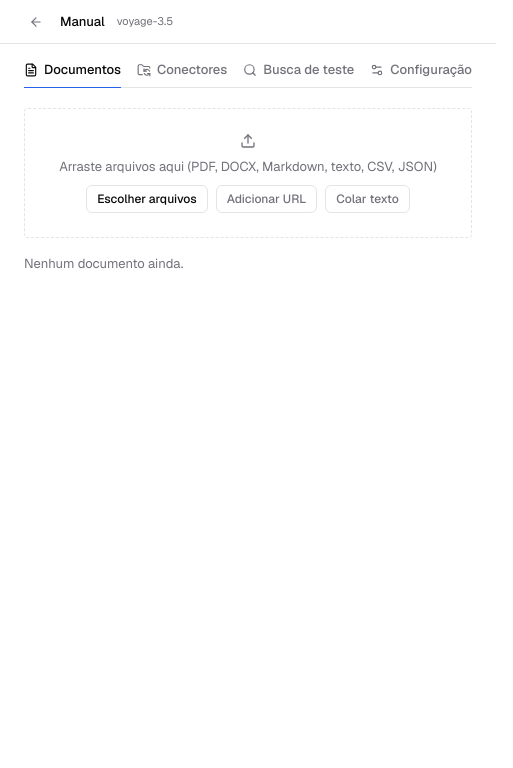
Test: corte por base › prévia mostra os trechos com o corte da tela, antes de salvar
The image size is (513, 768).
Click the tab "Configuração": {"x": 421, "y": 70} [370,52,472,88]
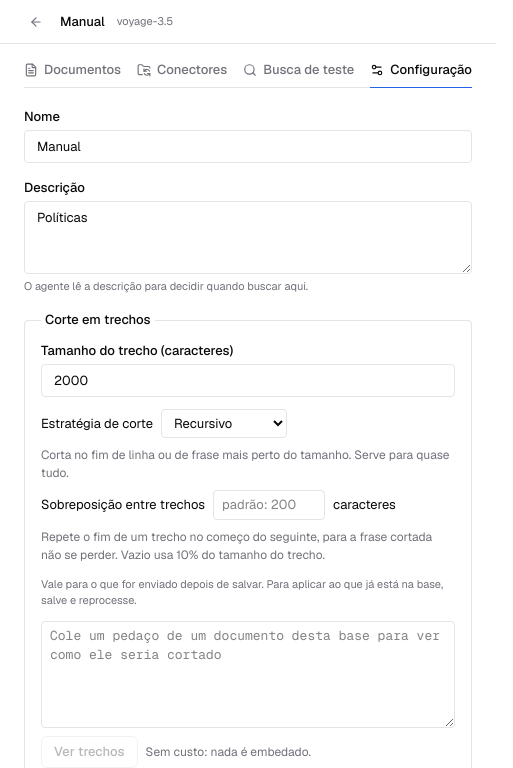
Select "Por títulos" in the dropdown labelled "Estratégia de corte": {"x": 224, "y": 424} [161,409,287,438]
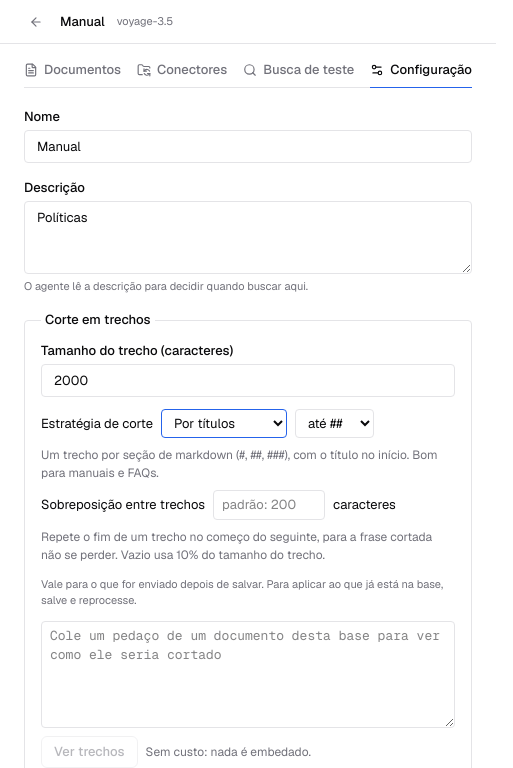
In the text box named "Texto para a prévia": {"x": 248, "y": 674} [41,621,455,728], type "# Férias"
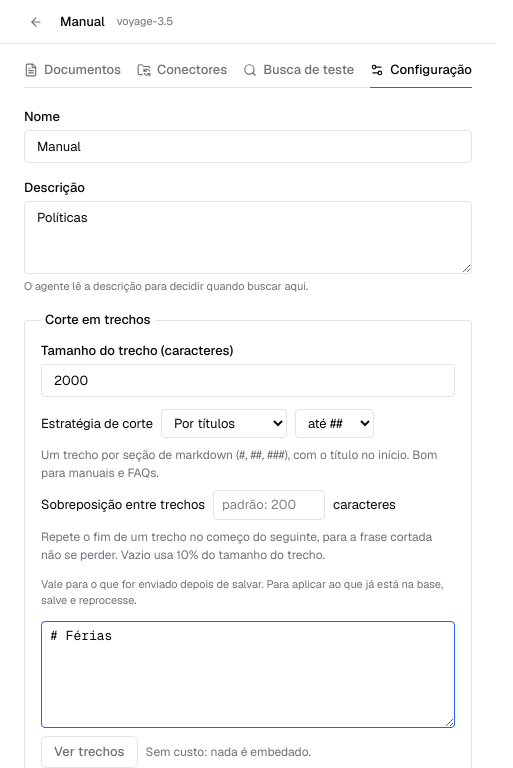
Click the button "Ver trechos": {"x": 89, "y": 752} [41,736,138,767]
(page scrolled)
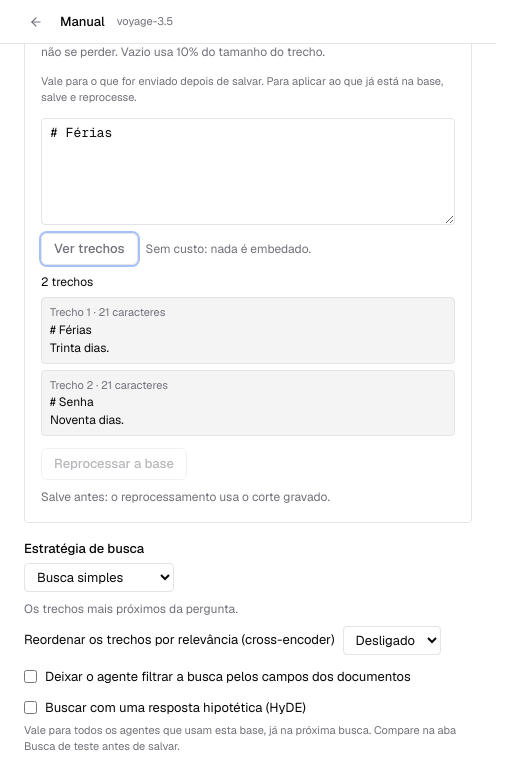
Expected: the text "2 trechos" is shown, [41,274,93,290]
Expected: the text "Trecho 2 · 21 caracteres" is shown, [50,378,168,392]
